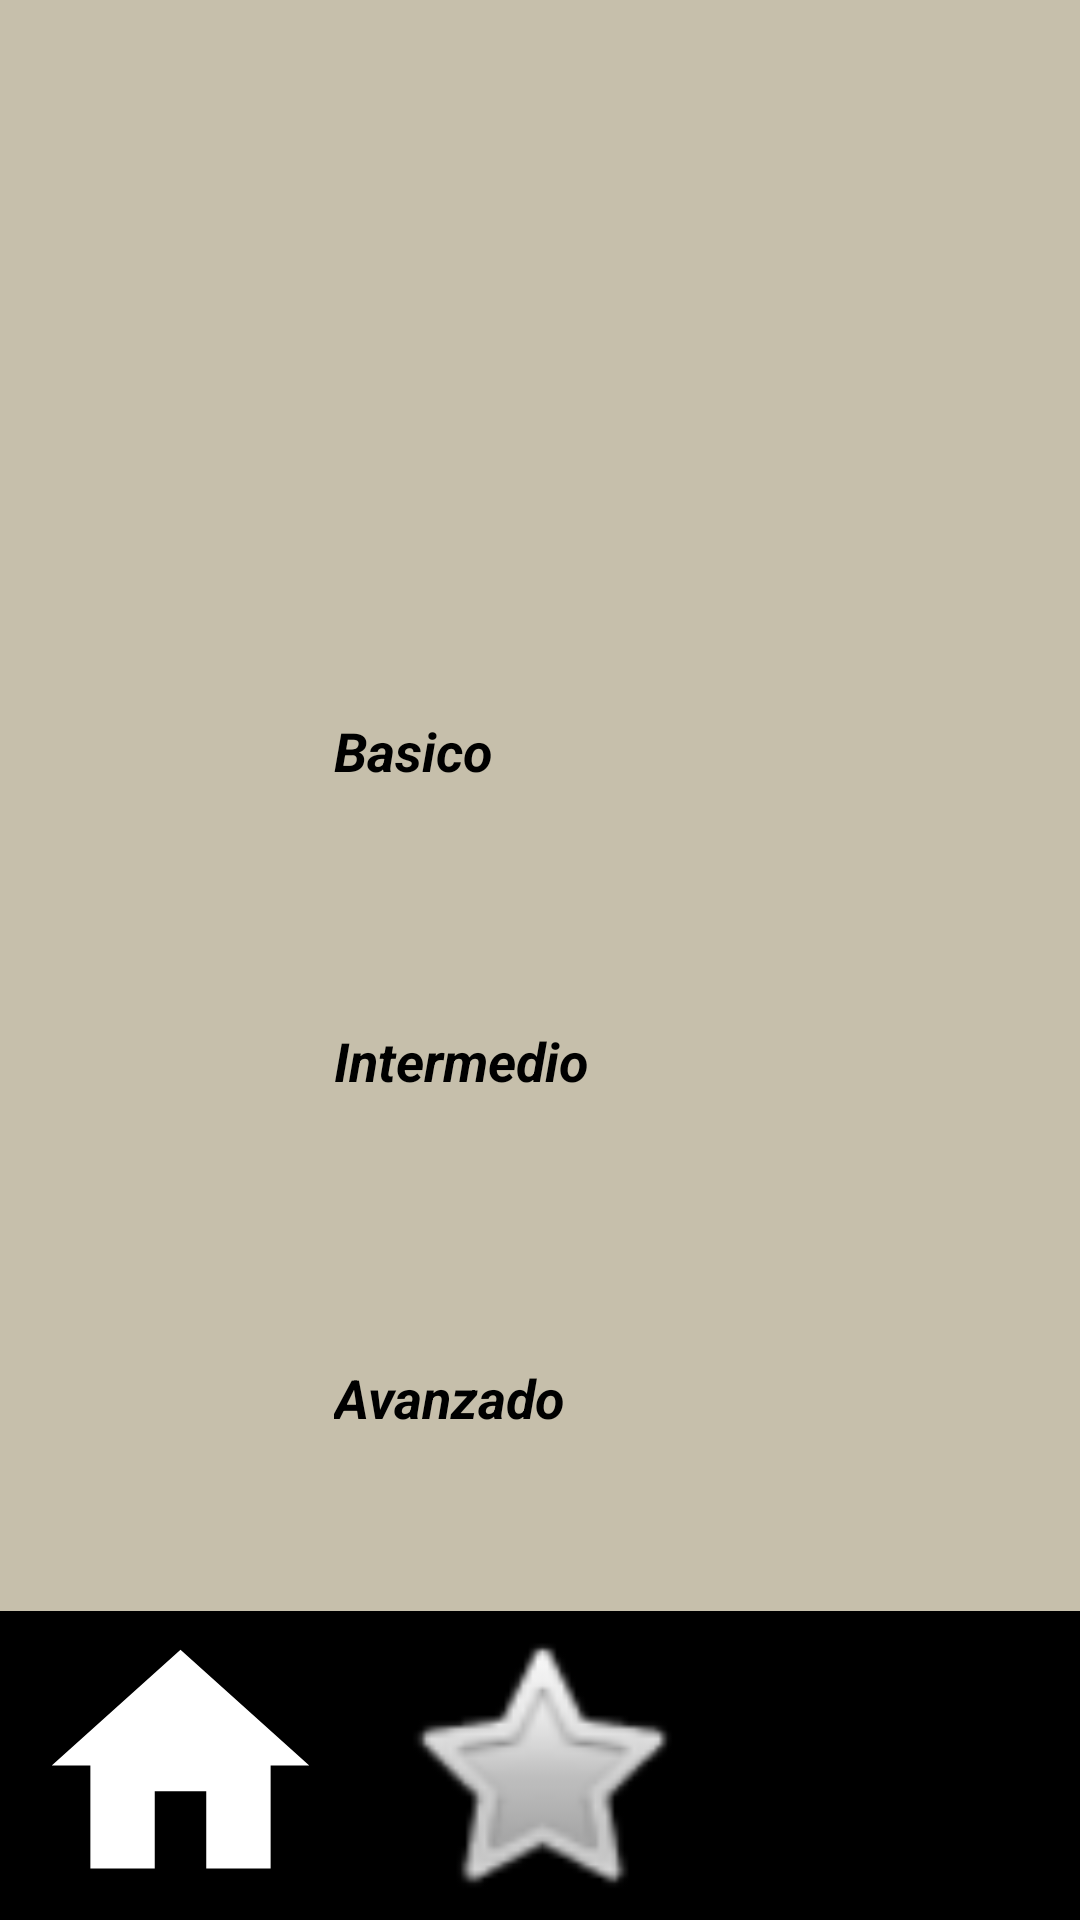

Screen size 1080 × 1920. Icon name, then its box in pixels as (left=x1, top=y1, right=x2, bottom=y2):
star: (left=418, top=1647, right=667, bottom=1883)
